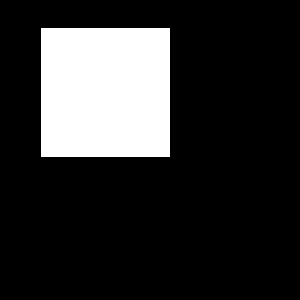circle: (41, 28, 170, 157)
